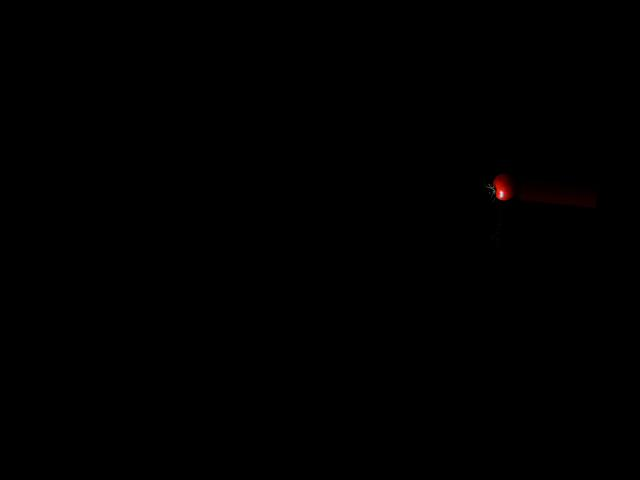tomato: (491, 172, 517, 202)
